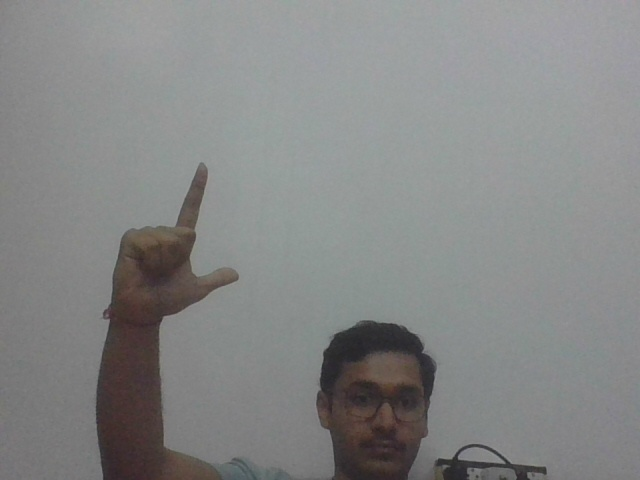L: (106, 158, 243, 325)
